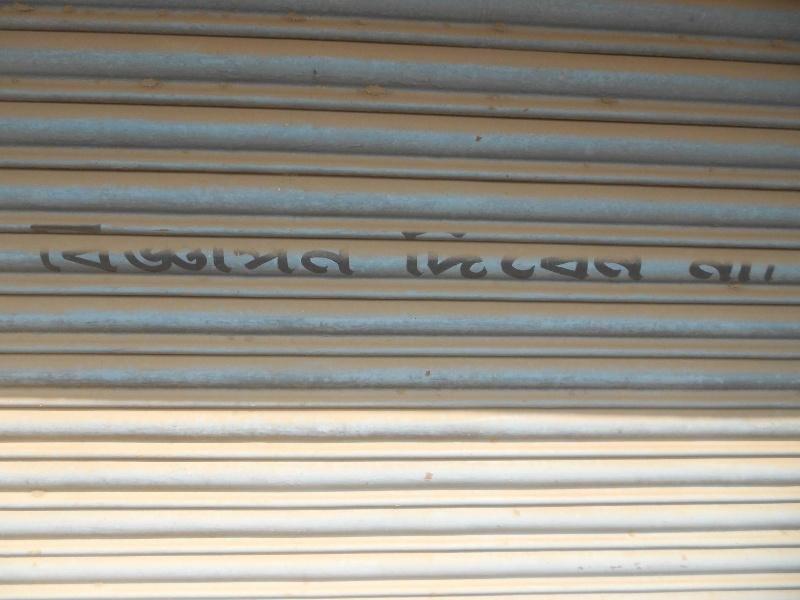text: (33, 218, 48, 283), (49, 218, 64, 283), (65, 218, 80, 283), (81, 218, 96, 283), (97, 218, 112, 283), (113, 218, 128, 283), (129, 218, 144, 283), (145, 218, 160, 283), (161, 218, 176, 283), (177, 218, 192, 283), (193, 218, 208, 283), (209, 218, 224, 283), (225, 218, 240, 283), (241, 218, 256, 283), (257, 218, 272, 283), (273, 218, 288, 283), (289, 218, 304, 283), (305, 218, 320, 283), (321, 218, 336, 283), (337, 218, 352, 283), (401, 227, 416, 283), (417, 227, 432, 283), (433, 227, 448, 283), (449, 227, 464, 283), (465, 227, 480, 283), (481, 227, 496, 283), (497, 227, 512, 283), (513, 227, 528, 283), (529, 227, 544, 283), (545, 227, 560, 283), (561, 227, 576, 283), (577, 227, 592, 283), (593, 227, 608, 283), (609, 227, 624, 283), (625, 227, 640, 283), (641, 227, 656, 283), (689, 245, 704, 284), (705, 245, 720, 284), (721, 245, 736, 284), (737, 245, 752, 284), (753, 245, 768, 284), (26, 218, 32, 283), (769, 245, 779, 284), (353, 218, 357, 283), (657, 227, 660, 283), (399, 227, 400, 283), (687, 245, 688, 284)
